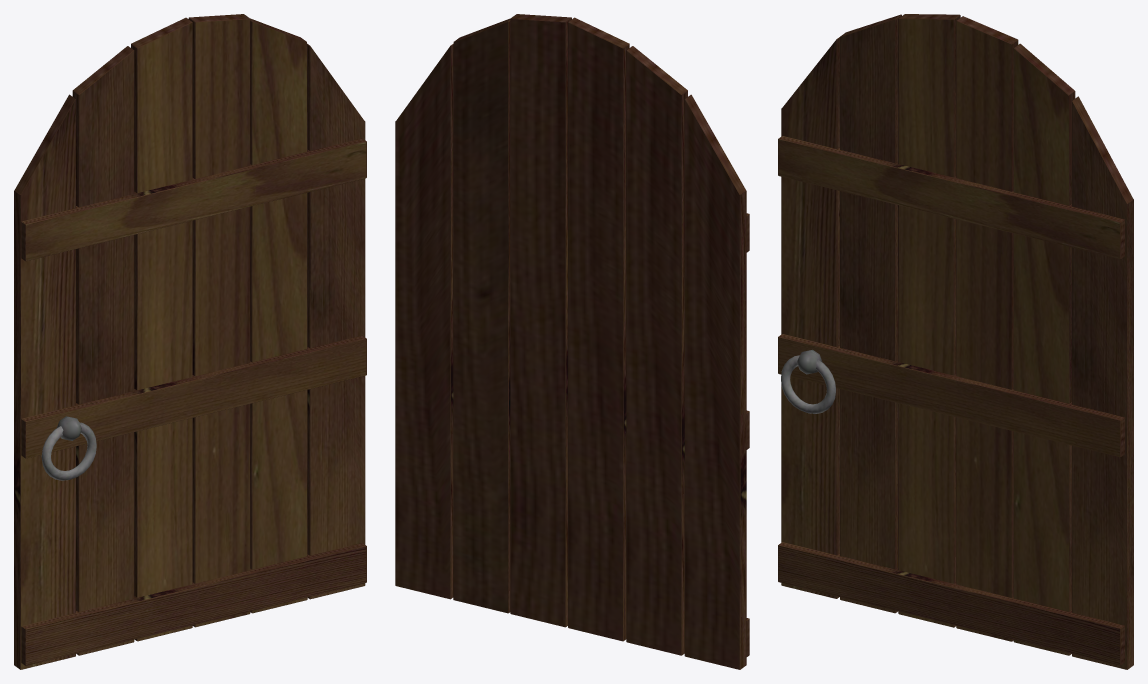
File: medseaport1b-door.obj
3 views of the same model, side by side, from view 1: azimuth 30°, elevation 25°; view 2: azimuth 150°, elevation 25°; view 3: azimuth 330°, elevation 25° (orthographic).
Parts seen in each view (by area): view 1: DoorRight.582_Cube.1998; view 2: DoorRight.582_Cube.1998; view 3: DoorRight.582_Cube.1998.
Part boxes in pixels (<box>): DoorRight.582_Cube.1998: <box>14,14,366,669</box>; DoorRight.582_Cube.1998: <box>395,14,749,669</box>; DoorRight.582_Cube.1998: <box>778,14,1133,669</box>.
Bounding box in the file's own units: 1.54 × 2.59 × 0.1787.
1 material, 1 textured.
